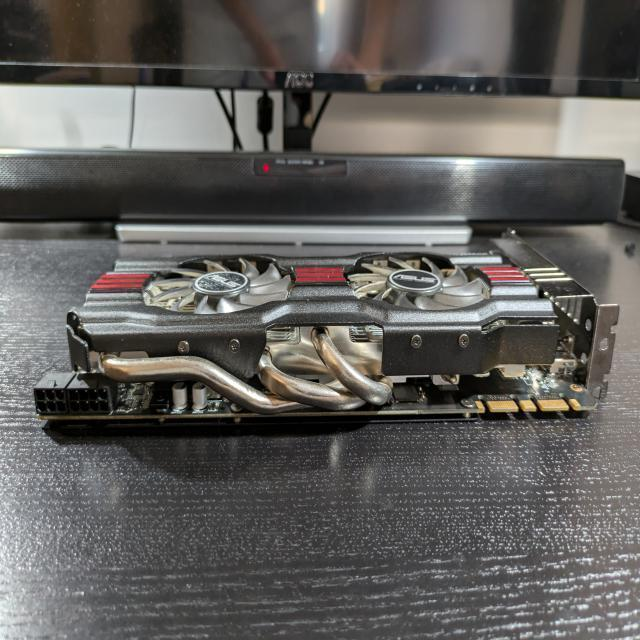GPU: (31, 227, 620, 426)
